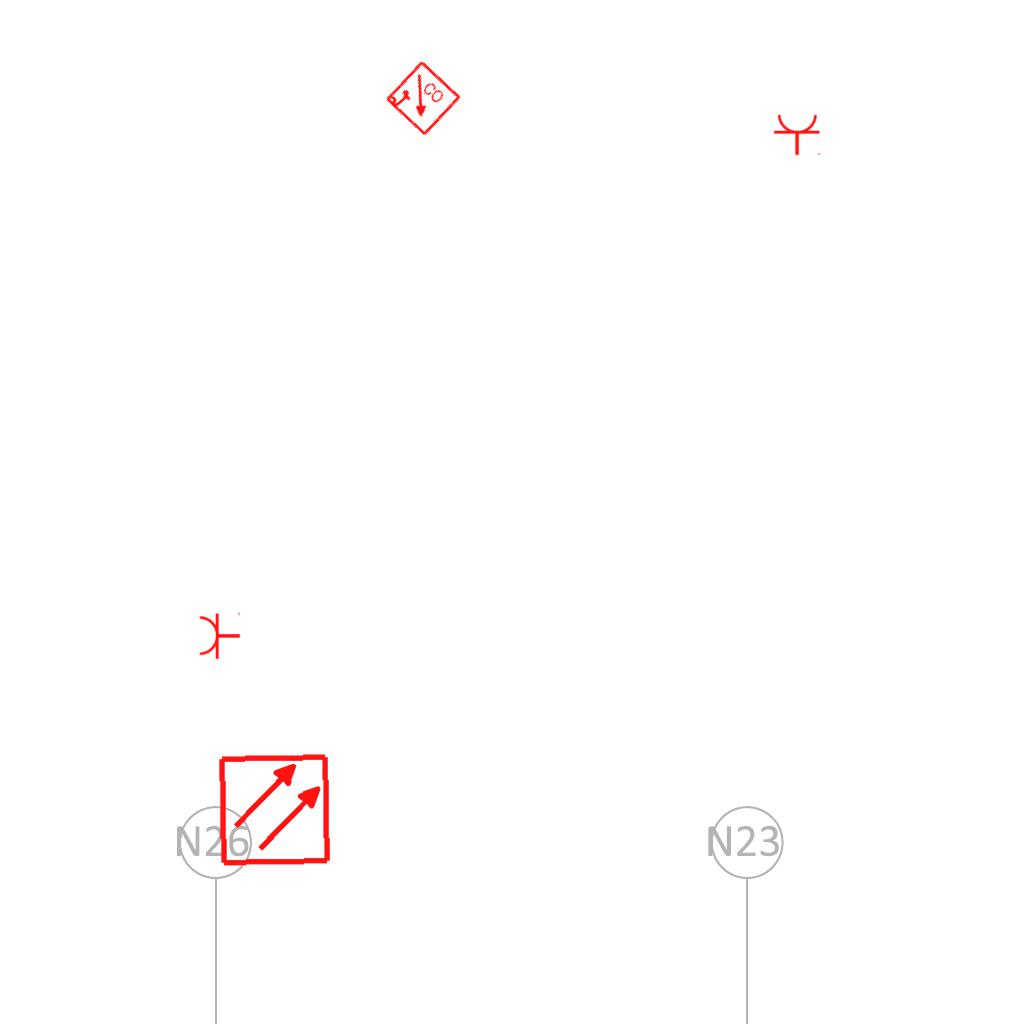RMO_Rauchmelder_optischer: (217, 752, 332, 867)
ROA_Rauchmelder_optisch_mit_Signalgeber_(Sockelsirene): (383, 59, 463, 139)
Schukosteckdose_einfach: (773, 113, 823, 156), (198, 610, 241, 660)
